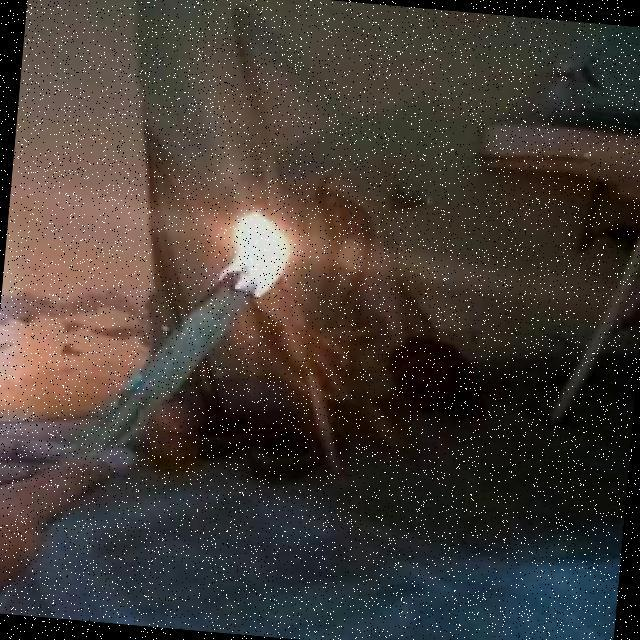Fire: (201, 194, 308, 314)
